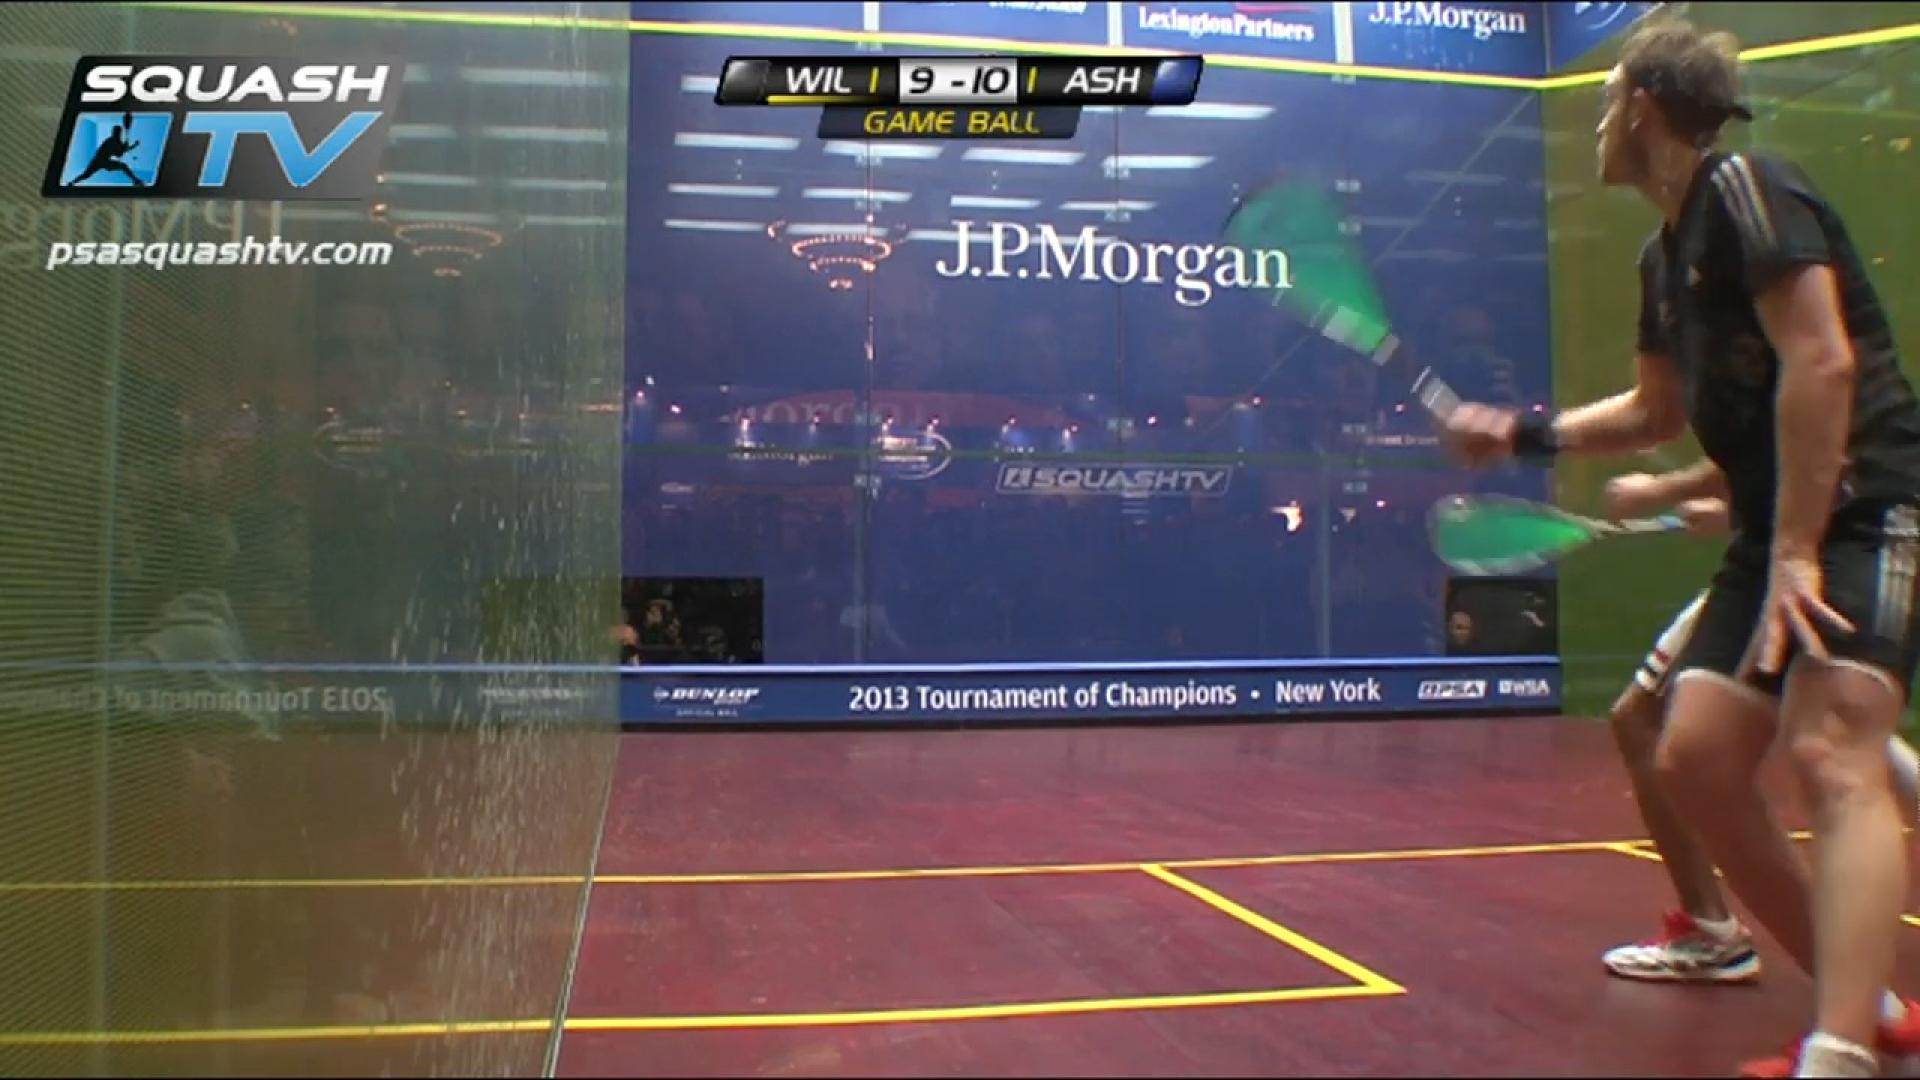Squash-Ball: (638, 368, 670, 398)
